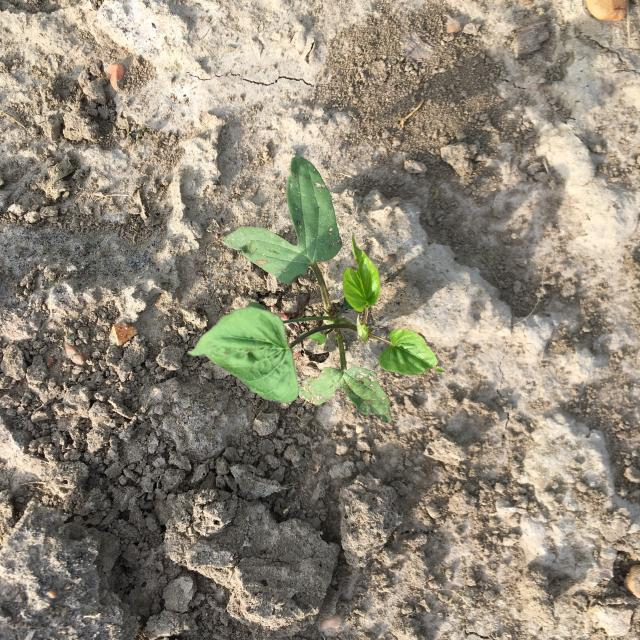MorningGlory: (186, 154, 444, 424)
